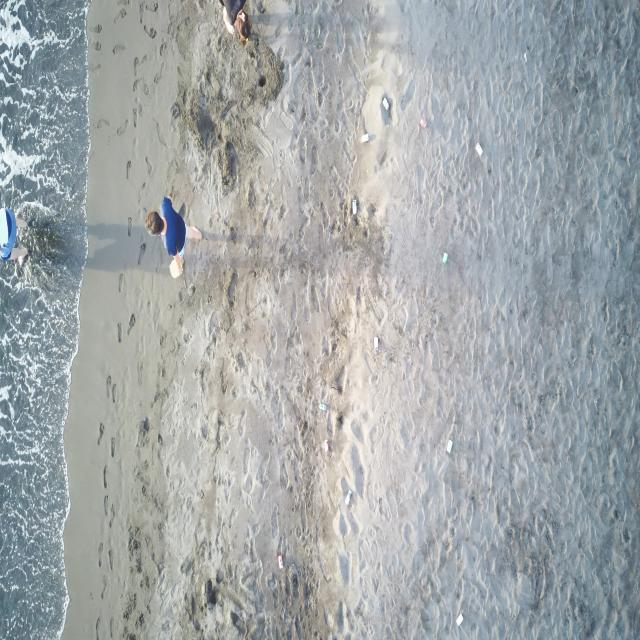Garbage: (380, 96, 391, 124), (169, 260, 181, 278), (344, 489, 352, 504), (276, 552, 283, 568), (475, 143, 483, 156), (324, 439, 331, 452), (455, 613, 463, 624), (360, 132, 369, 141), (372, 336, 377, 351), (319, 402, 327, 411), (446, 440, 452, 452), (382, 96, 387, 110), (420, 118, 426, 128), (352, 199, 356, 213), (442, 252, 447, 263), (524, 51, 526, 60)
